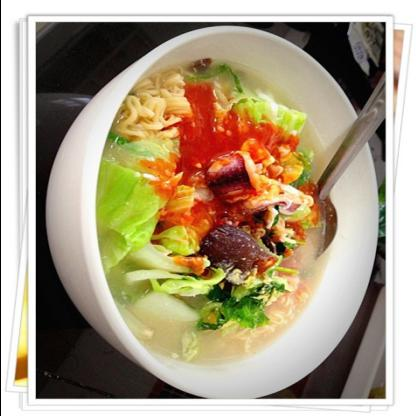Suki: (63, 55, 350, 373)
